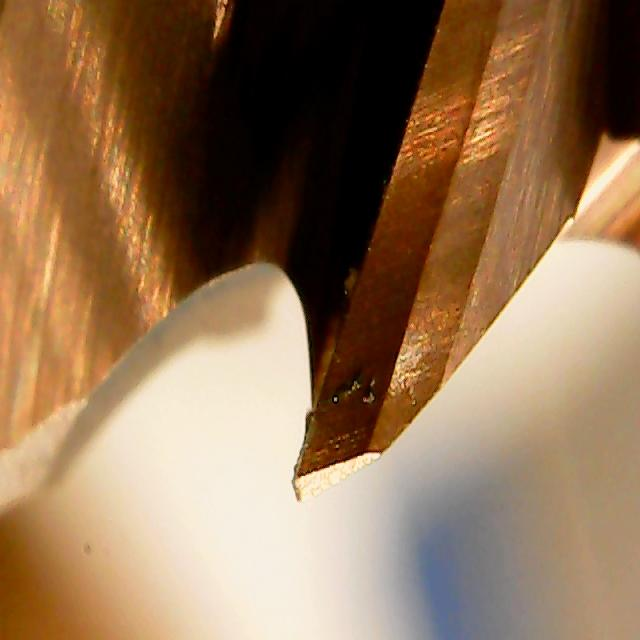Tool-wear-class-1: (291, 269, 451, 520)
